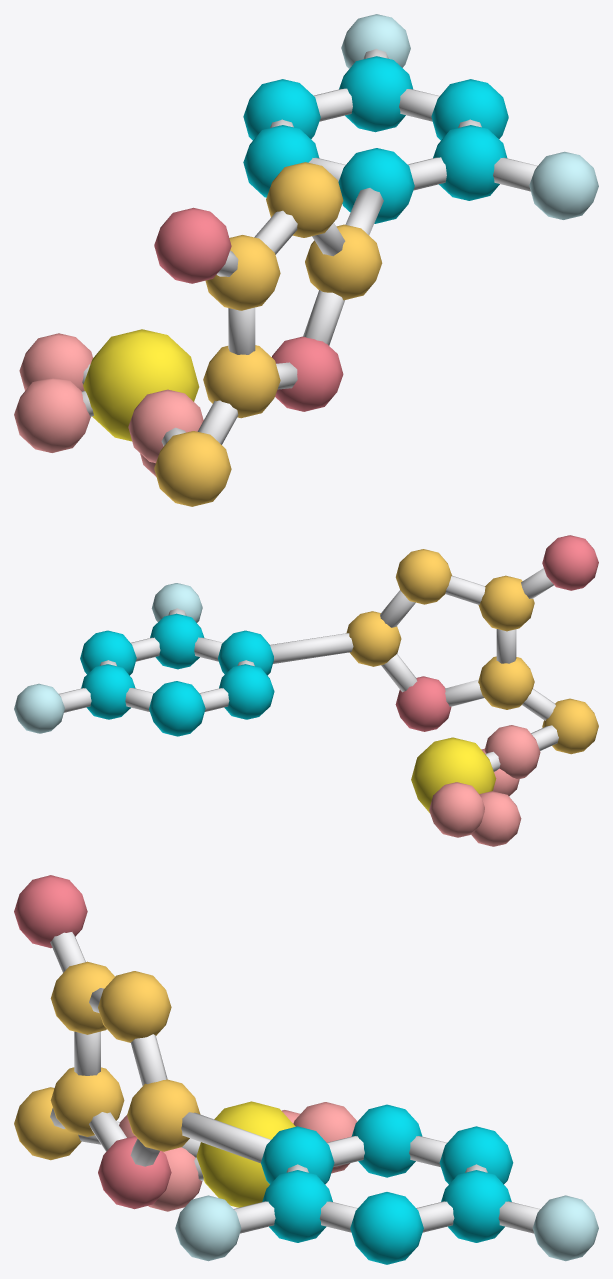
Rendered from Nucleotide_Cytosine.glb.
3 views of the same model, one above another, from view 1: azimuth 30°, elevation 25°; view 2: azimuth 150°, elevation 25°; view 3: azimuth 270°, elevation 25° (orthographic). The views are drawn at different scales.
Visible parts, largest first — view 1: Base_C_Ring, Sugar_Carbon, Phosphate_Oxygen, Sugar_Oxygen, Phosphate_Phosphorus, Sugar_Bonds, Base_C_Edge, Base_C_Bonds; view 2: Base_C_Ring, Sugar_Carbon, Phosphate_Oxygen, Sugar_Bonds, Sugar_Oxygen, Base_C_Bonds, Phosphate_Phosphorus, Base_C_Edge, Phosphate_Bonds; view 3: Base_C_Ring, Sugar_Carbon, Base_C_Bonds, Sugar_Oxygen, Base_C_Edge, Sugar_Bonds, Phosphate_Phosphorus, Phosphate_Oxygen.
Boxes of the visible parts, x1,y1,x2,y2 form: Base_C_Ring: [243, 56, 508, 223]; Sugar_Carbon: [154, 162, 382, 506]; Phosphate_Oxygen: [14, 333, 203, 476]; Sugar_Oxygen: [154, 207, 343, 411]; Phosphate_Phosphorus: [83, 329, 199, 441]; Sugar_Bonds: [197, 210, 345, 444]; Base_C_Edge: [341, 14, 598, 219]; Base_C_Bonds: [270, 49, 537, 235]; Base_C_Ring: [80, 613, 274, 736]; Sugar_Carbon: [346, 549, 598, 754]; Phosphate_Oxygen: [429, 725, 540, 846]; Sugar_Bonds: [380, 568, 555, 720]; Sugar_Oxygen: [395, 535, 598, 731]; Base_C_Bonds: [59, 608, 353, 712]; Phosphate_Phosphorus: [411, 737, 496, 812]; Base_C_Edge: [14, 583, 202, 733]; Phosphate_Bonds: [485, 725, 558, 771]; Base_C_Ring: [261, 1104, 513, 1264]; Sugar_Carbon: [14, 961, 200, 1160]; Base_C_Bonds: [181, 1112, 540, 1233]; Sugar_Oxygen: [14, 875, 171, 1209]; Base_C_Edge: [175, 1195, 598, 1261]; Sugar_Bonds: [50, 932, 167, 1166]; Phosphate_Phosphorus: [196, 1101, 295, 1207]; Phosphate_Oxygen: [119, 1102, 357, 1211].
Size of the model in its own units: 0.0802 by 0.0463 by 0.0794.
